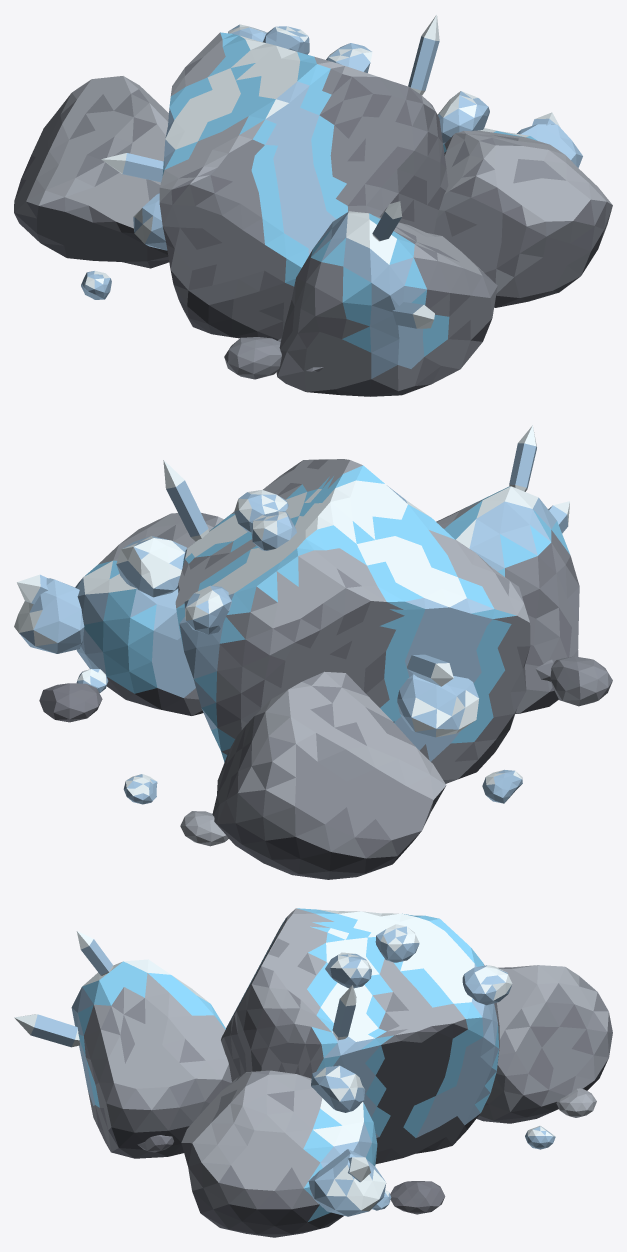
The model's file is Vein_Mithril.obj.
The picture shows the model from 3 angles, top to bottom: view 1: azimuth 30°, elevation 25°; view 2: azimuth 150°, elevation 25°; view 3: azimuth 270°, elevation 25°; orthographic projection. The views are drawn at different scales.
Parts seen in each view (by area): view 1: Vein_Mithril; view 2: Vein_Mithril; view 3: Vein_Mithril.
Boxes of the visible parts, x1=… form: Vein_Mithril: x1=14, y1=14, x2=612, y2=396; Vein_Mithril: x1=14, y1=425, x2=612, y2=879; Vein_Mithril: x1=14, y1=908, x2=612, y2=1237.
Bounding box in the file's own units: 1.44 × 0.7266 × 1.72.
